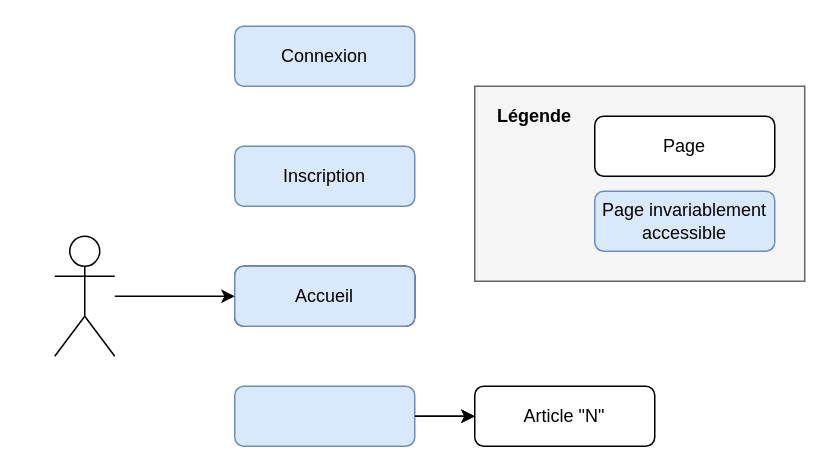
Image size: 831x473. Some labels were removed from this diagram. The centre of each missing label's shape, as x and y in pixels:
"Utilisateur non authentifié" belongs at point 84,295.
"Œuvres" belongs at point 324,415.
